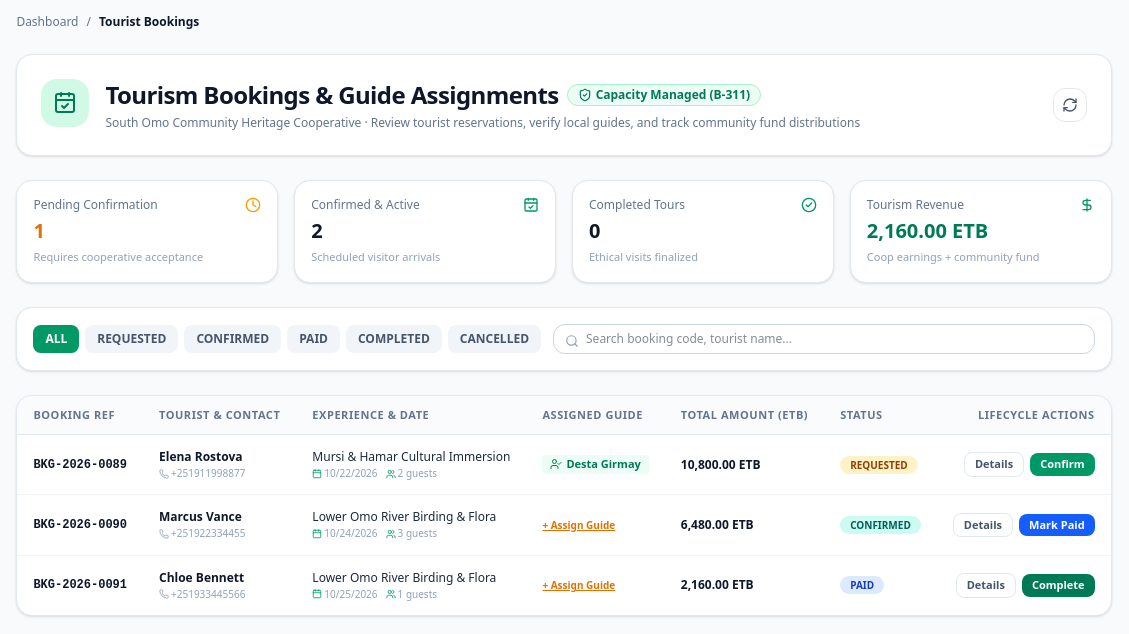
Test case: F-912: Tourism Bookings Lifecycle & Guide Assignment › filters bookings by status tabs (REQUESTED, CONFIRMED) and search
Expected: the table with test id "bookings-table" is shown, [17, 396, 1111, 615]
Filter by REQUESTED
Step 1. Click the button with test id "filter-booking-REQUESTED" → (132, 338), box [85, 324, 178, 352]
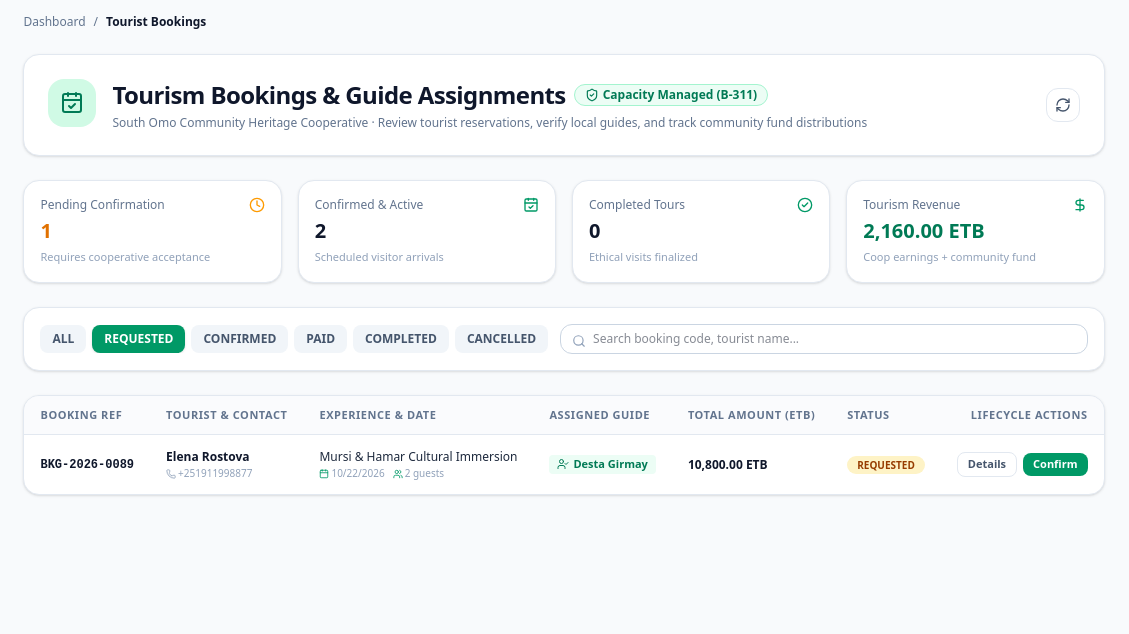
Expected: the text "BKG-2026-0089" is shown, [24, 435, 150, 494]
Expected: the text "BKG-2026-0090" is gone
Filter by CONFIRMED
Step 2. Click the button with test id "filter-booking-CONFIRMED" → (240, 338), box [192, 324, 288, 352]
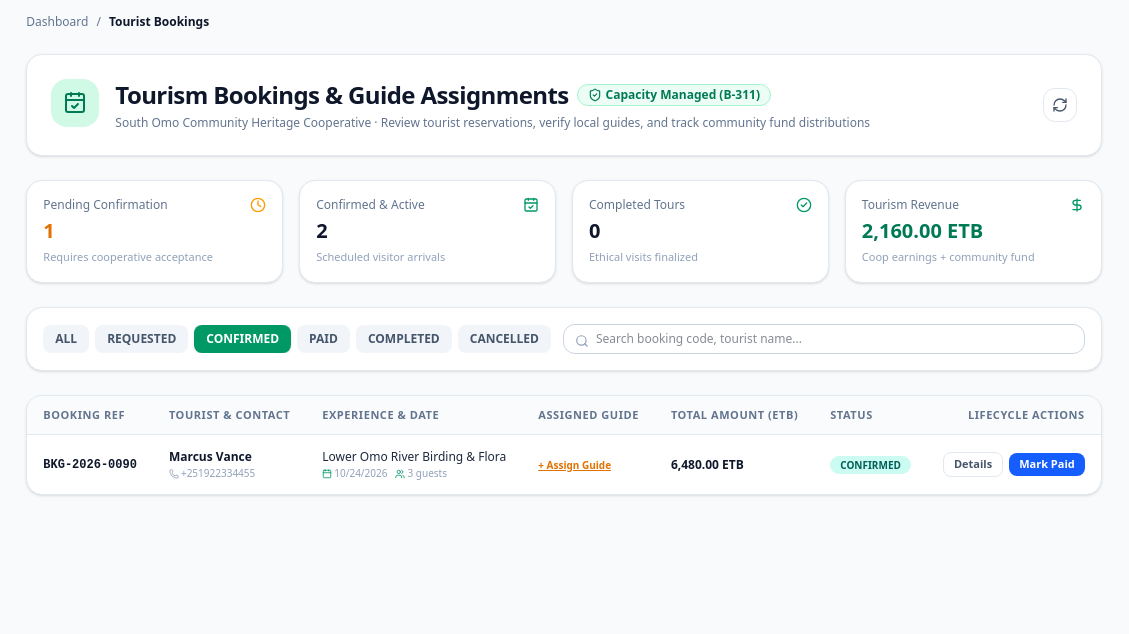
Expected: the text "BKG-2026-0089" is gone
Expected: the text "BKG-2026-0090" is shown, [27, 435, 153, 494]
Reset to ALL
Step 3. Click the button with test id "filter-booking-ALL" → (66, 338), box [43, 324, 89, 352]
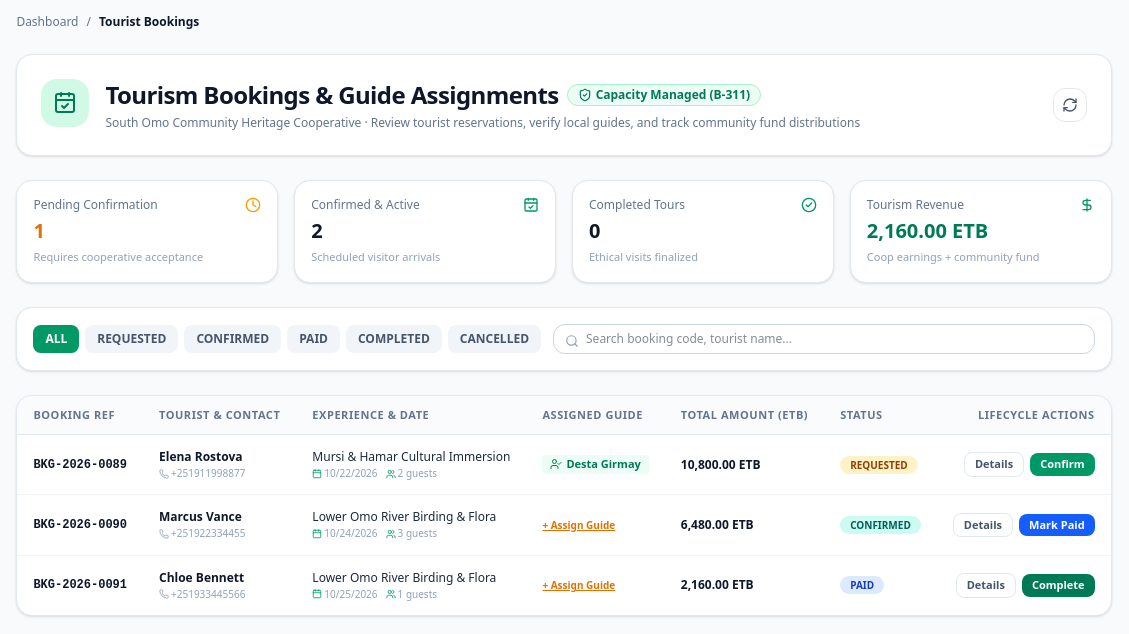
Search input
Step 4. Type "Marcus" into the field with test id "search-bookings-input" → (824, 338), box [553, 324, 1095, 354]
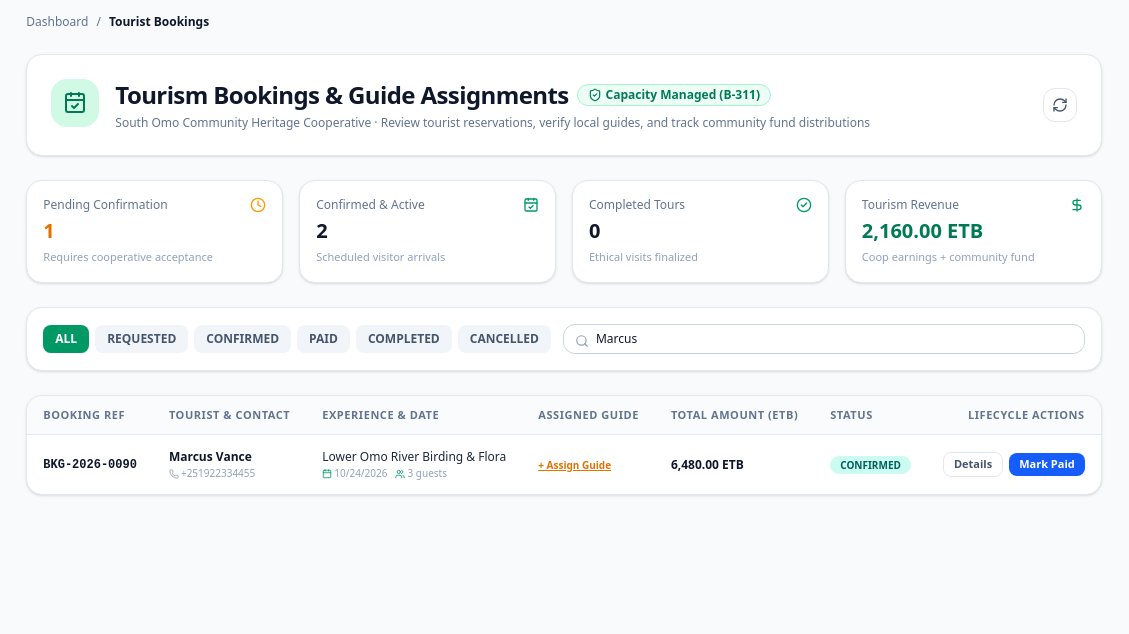
Expected: the text "BKG-2026-0090" is shown, [27, 435, 153, 494]
Expected: the text "BKG-2026-0089" is gone
